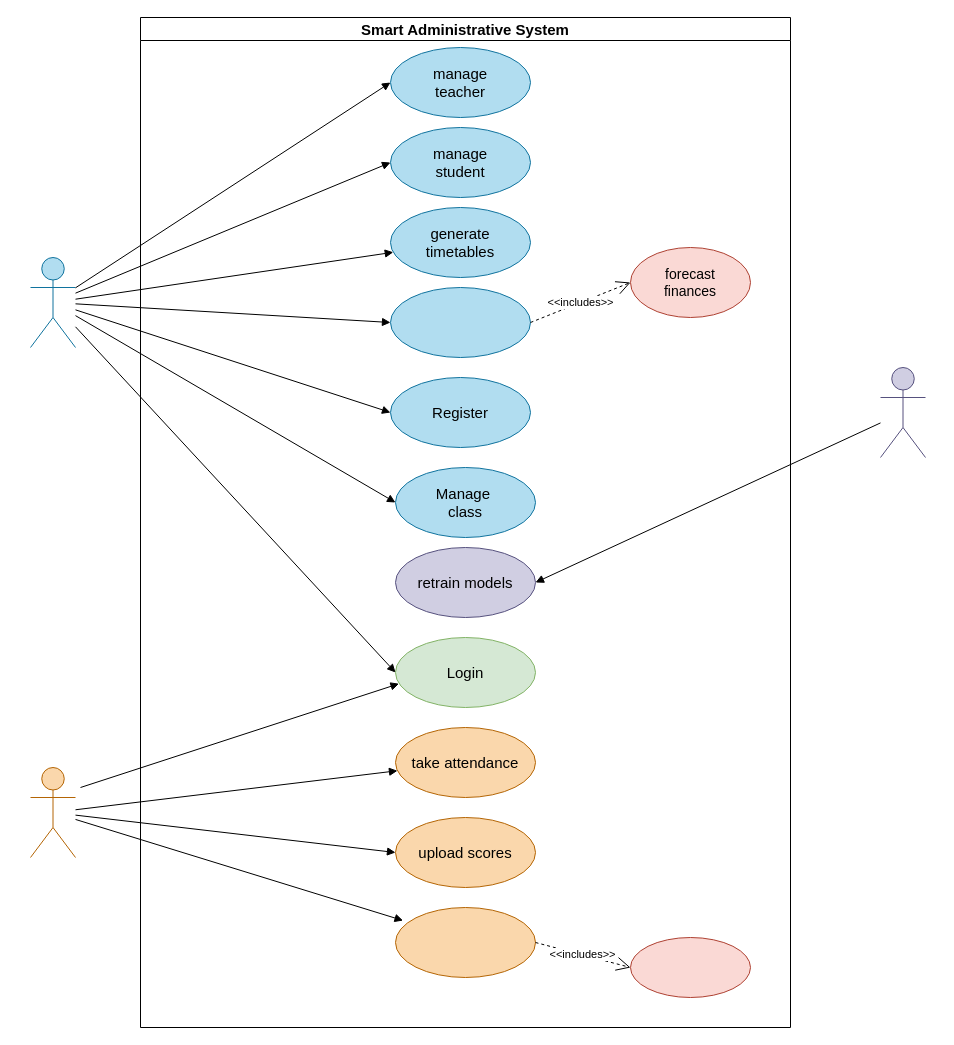
Some shapes in this 954 by 1045 pixel diagram are drawn without their labels. The centre of each missing label's shape, as x and y in pixels:
Administrator: (x=53, y=302)
check students' performance: (x=465, y=942)
Data Analyst: (x=903, y=412)
manage finances: (x=460, y=322)
predict performance: (x=690, y=967)
Teacher: (x=53, y=812)
